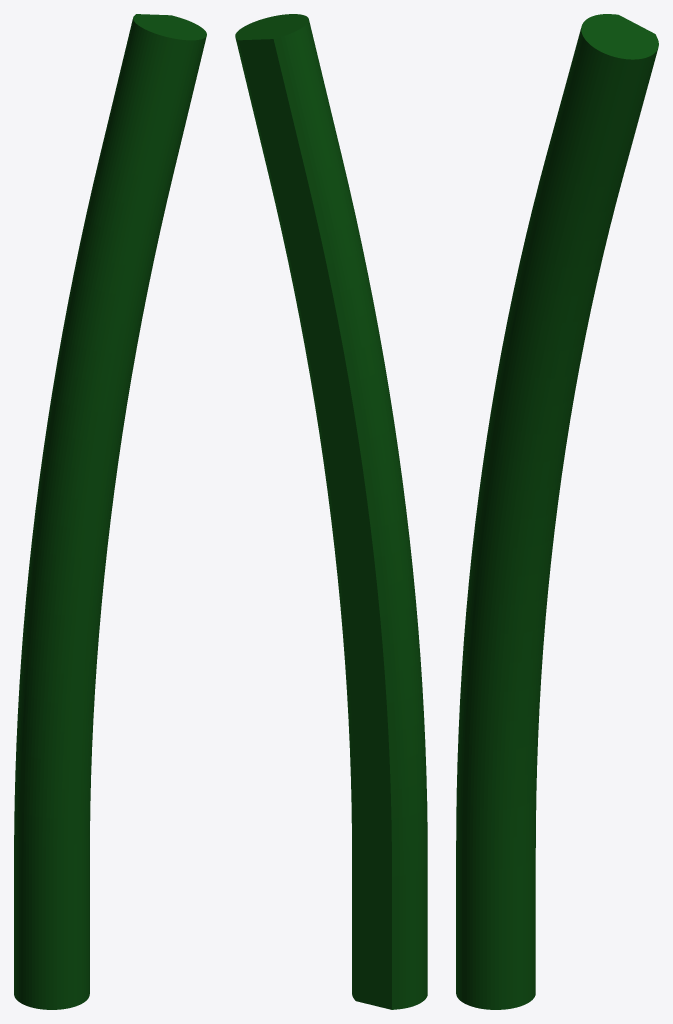
File: stem_3B_15_R.glb
The picture shows the model from 3 angles, left to right: view 1: azimuth 30°, elevation 25°; view 2: azimuth 150°, elevation 25°; view 3: azimuth 330°, elevation 25°; orthographic projection. The views are drawn at different scales.
Visible parts, largest first — view 1: stem_3B_15_R; view 2: stem_3B_15_R; view 3: stem_3B_15_R.
Part boxes in pixels (x1,y1,x2,y2): stem_3B_15_R: [14, 14, 206, 1009]; stem_3B_15_R: [235, 14, 427, 1009]; stem_3B_15_R: [456, 14, 658, 1009].
Bounding box in the file's own units: 0.02 × 0.0992 × 0.00666.
